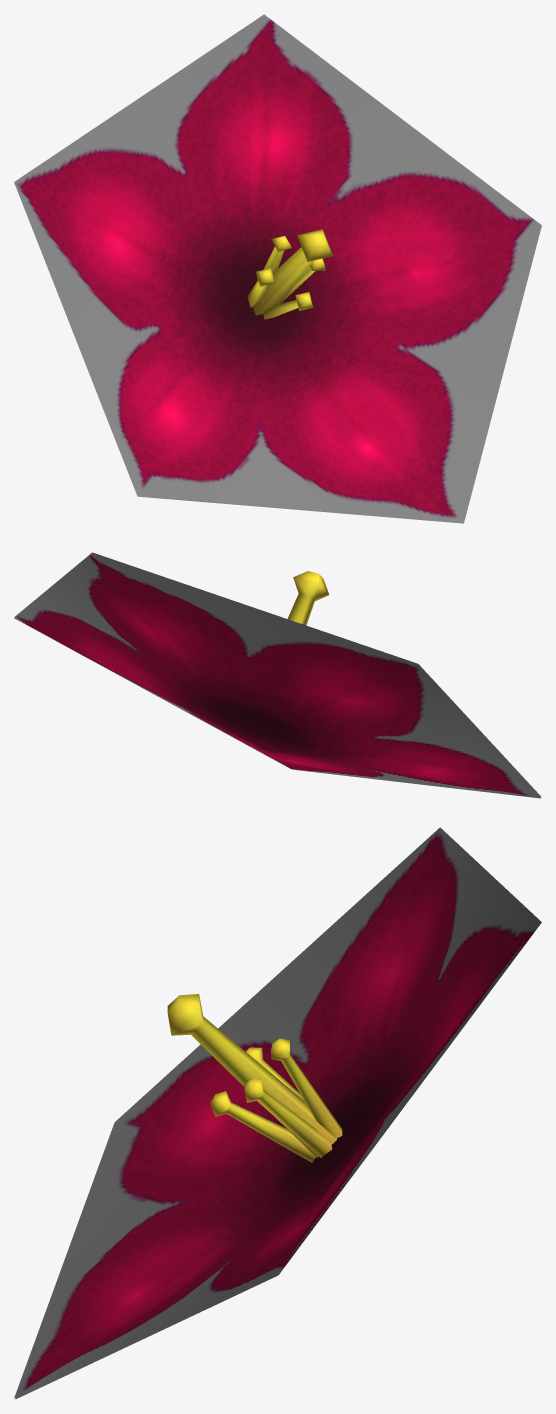
The model's file is Flower_Big.FBX.
3 views of the same model, one above another, from view 1: azimuth 30°, elevation 25°; view 2: azimuth 150°, elevation 25°; view 3: azimuth 270°, elevation 25° (orthographic). The views are drawn at different scales.
Visible parts, largest first — view 1: Flower_Big; view 2: Flower_Big; view 3: Flower_Big.
Boxes of the visible parts, <box> form: Flower_Big: <box>14,14,541,523</box>; Flower_Big: <box>14,552,541,798</box>; Flower_Big: <box>14,827,541,1399</box>.
Bounding box in the file's own units: 330 × 246 × 246.
